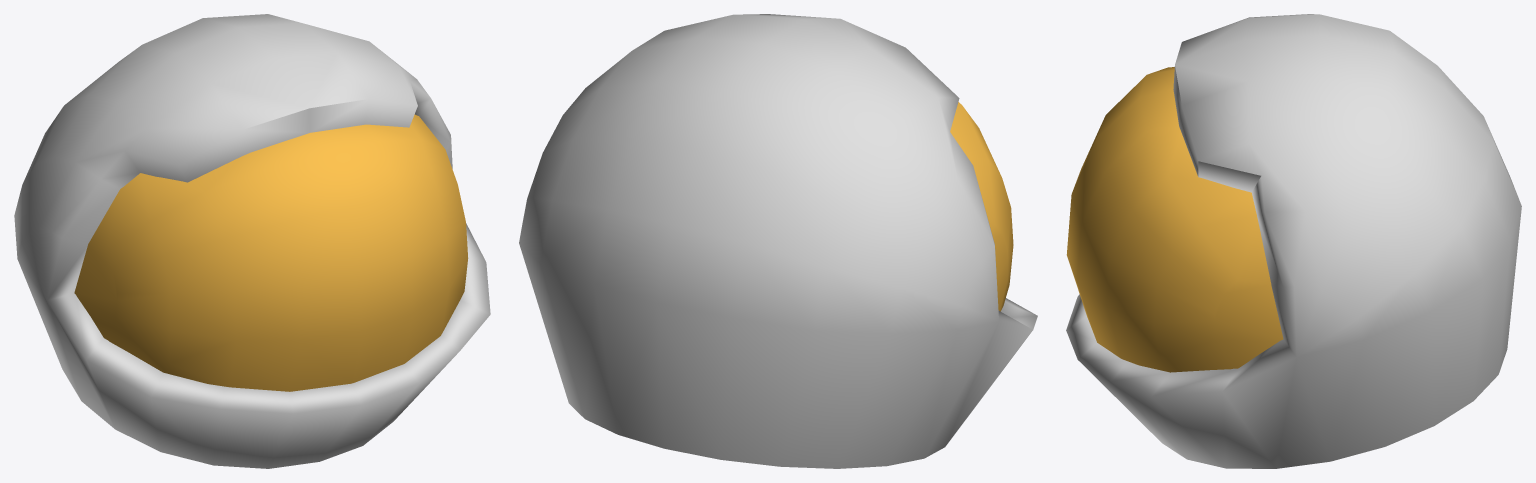
Rendered from SpaceMarineHead.fbx.
3 views of the same model, side by side, from view 1: azimuth 30°, elevation 25°; view 2: azimuth 150°, elevation 25°; view 3: azimuth 270°, elevation 25° (orthographic). The views are drawn at different scales.
Parts seen in each view (by area): view 1: Head_Mesh, Zabralo_Mesh; view 2: Head_Mesh, Zabralo_Mesh; view 3: Head_Mesh, Zabralo_Mesh.
Boxes of the visible parts, x1,y1,x2,y2 form: Head_Mesh: [14, 14, 490, 468]; Zabralo_Mesh: [74, 114, 468, 391]; Head_Mesh: [519, 14, 1037, 468]; Zabralo_Mesh: [950, 102, 1013, 311]; Head_Mesh: [1066, 14, 1521, 468]; Zabralo_Mesh: [1066, 67, 1283, 372].
Size of the model in its own units: 42.82 by 37.59 by 40.27.
